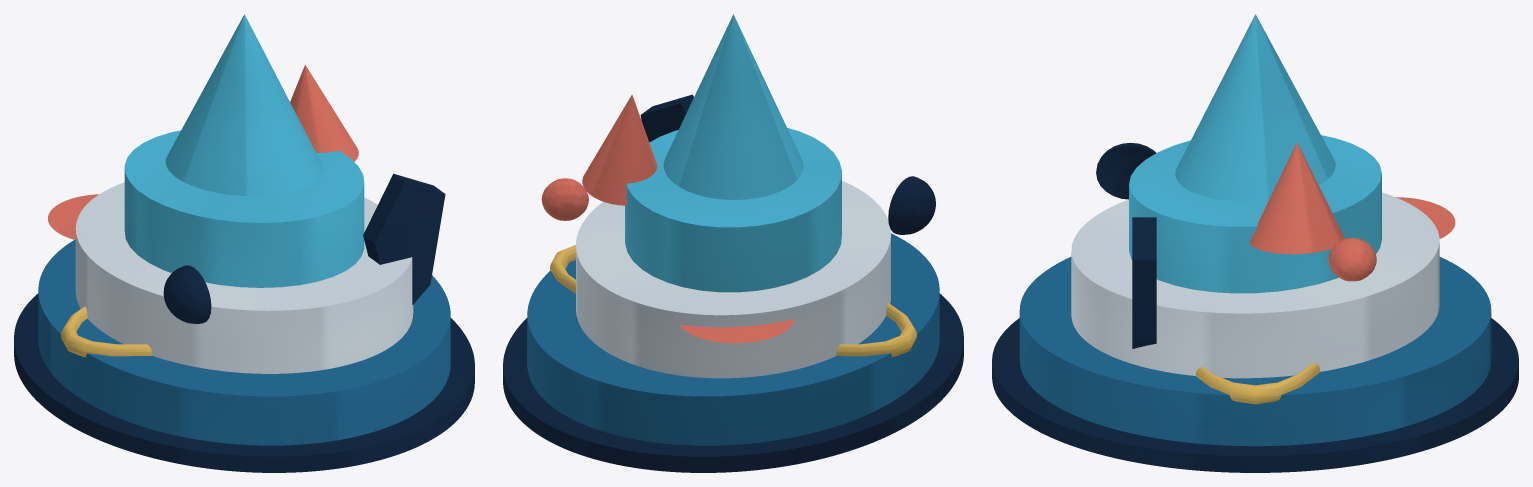
File: 1155_海底两万里_海底森林.glb
The picture shows the model from 3 angles, left to right: view 1: azimuth 30°, elevation 25°; view 2: azimuth 150°, elevation 25°; view 3: azimuth 270°, elevation 25°; orthographic projection. The views are drawn at different scales.
Visible parts, largest first — view 1: card_1155; view 2: card_1155; view 3: card_1155.
Part boxes in pixels (<box>): card_1155: <box>14,14,474,472</box>; card_1155: <box>503,14,963,472</box>; card_1155: <box>992,14,1518,472</box>.
Size of the model in its own units: 1.13 by 1 by 1.31.
